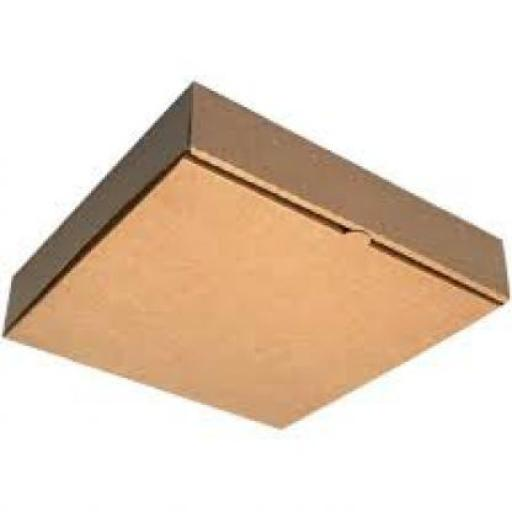cardboard: (7, 88, 505, 426)
